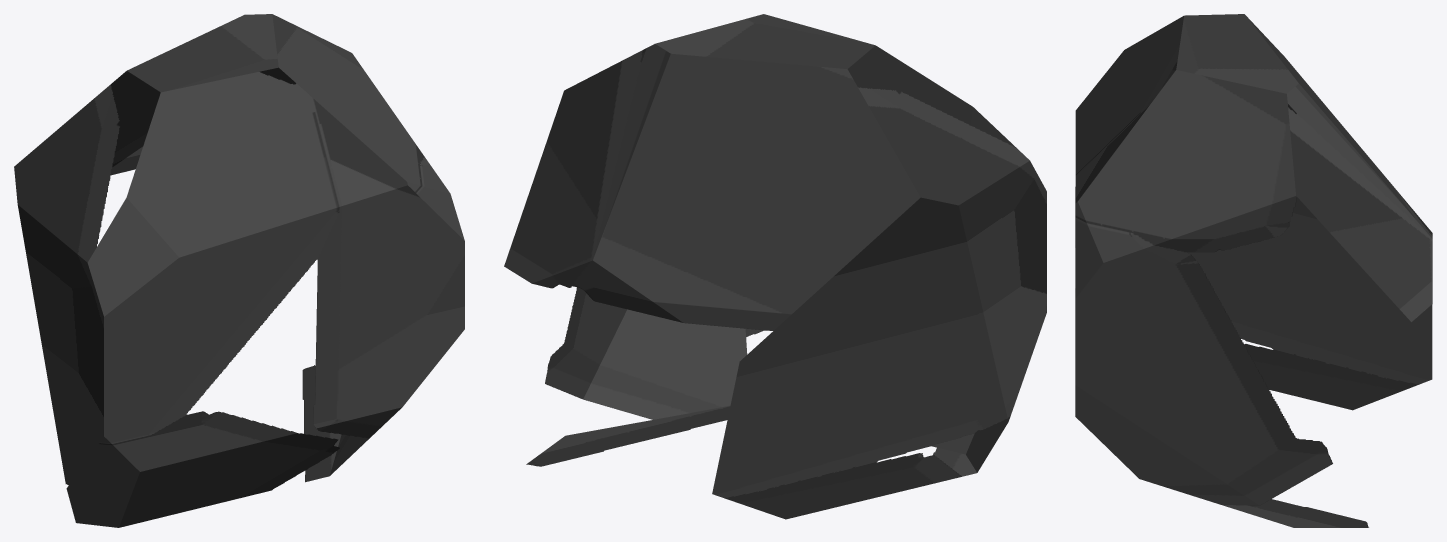
Rendered from kamen4.fbx.
3 renders of one model, left to right at view 1: azimuth 30°, elevation 25°; view 2: azimuth 150°, elevation 25°; view 3: azimuth 270°, elevation 25°, orthographic. The views are drawn at different scales.
Parts seen in each view (by area): view 1: Cube.001; view 2: Cube.001; view 3: Cube.001.
Part boxes in pixels (left/top/right/bottom): Cube.001: left=14, top=14, right=464, bottom=527; Cube.001: left=504, top=14, right=1046, bottom=519; Cube.001: left=1075, top=14, right=1432, bottom=527.
Bounding box in the file's own units: 118 × 126 × 103.
Materials: 1 (1 with a texture image).
